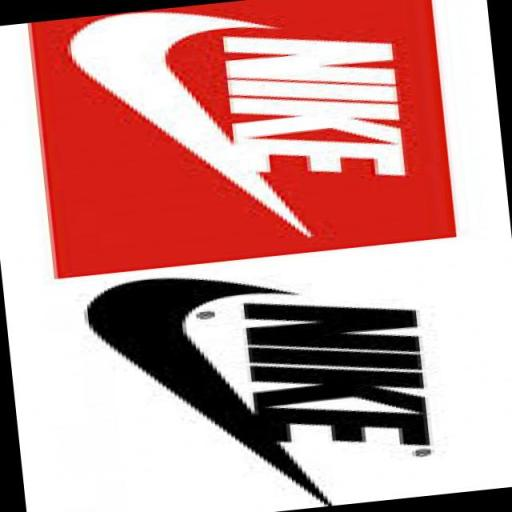Nike: (80, 265, 294, 500), (218, 17, 408, 195)
